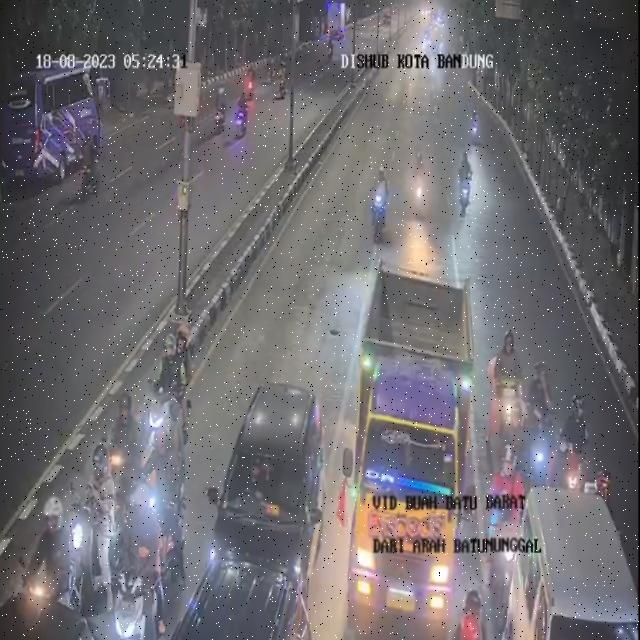cars: (210, 377, 329, 600), (499, 484, 639, 637), (176, 564, 309, 640), (508, 554, 560, 640)
motorcycle: (70, 438, 106, 596), (154, 327, 193, 469), (487, 442, 522, 576), (31, 491, 70, 599), (530, 351, 560, 484), (489, 320, 521, 444), (114, 378, 144, 504), (565, 387, 590, 483), (366, 164, 392, 246), (496, 443, 525, 516), (451, 585, 487, 640), (453, 146, 476, 228), (410, 146, 431, 218), (467, 105, 481, 155)
truck: (360, 268, 470, 639)
